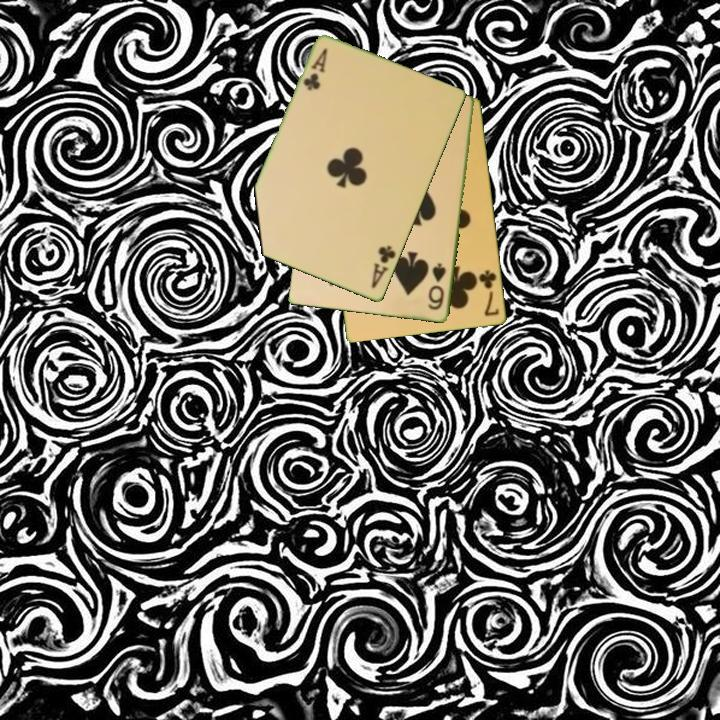6s: (425, 260, 449, 313)
7c: (476, 267, 502, 319)
Ac: (368, 242, 399, 292), (300, 45, 331, 94)
